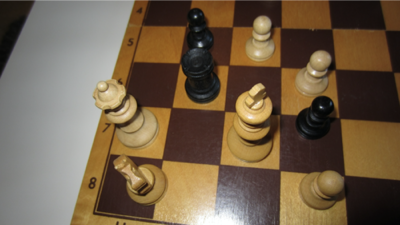black-pawn: (296, 96, 336, 140), (187, 7, 215, 50)
black-rook: (181, 48, 223, 105)
white-king: (227, 83, 275, 164)
white-knight: (113, 154, 170, 207)
white-pawn: (299, 170, 346, 211), (295, 50, 332, 97), (246, 16, 276, 63)
white-queen: (92, 79, 161, 151)
